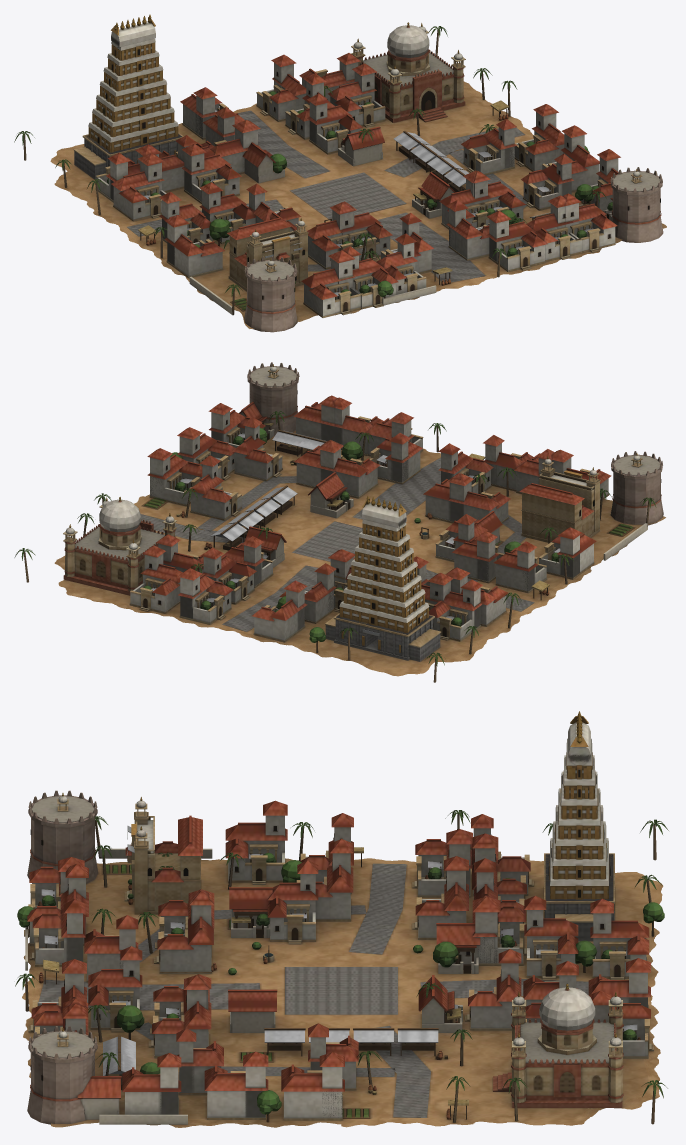
The model's file is kingdoms-town-big-a-indic.glb.
3 views of the same model, one above another, from view 1: azimuth 30°, elevation 25°; view 2: azimuth 150°, elevation 25°; view 3: azimuth 270°, elevation 25° (orthographic). The views are drawn at different scales.
Visible parts, largest first — view 1: LOD0; view 2: LOD0; view 3: LOD0.
Boxes of the visible parts, left/top/right/bottom form: LOD0: left=14, top=14, right=666, bottom=332; LOD0: left=14, top=362, right=665, bottom=682; LOD0: left=15, top=711, right=668, bottom=1127.
Size of what is drawn, in the model's own units: 8.19 by 2.62 by 8.15.
Materials: 3 (3 with a texture image).
